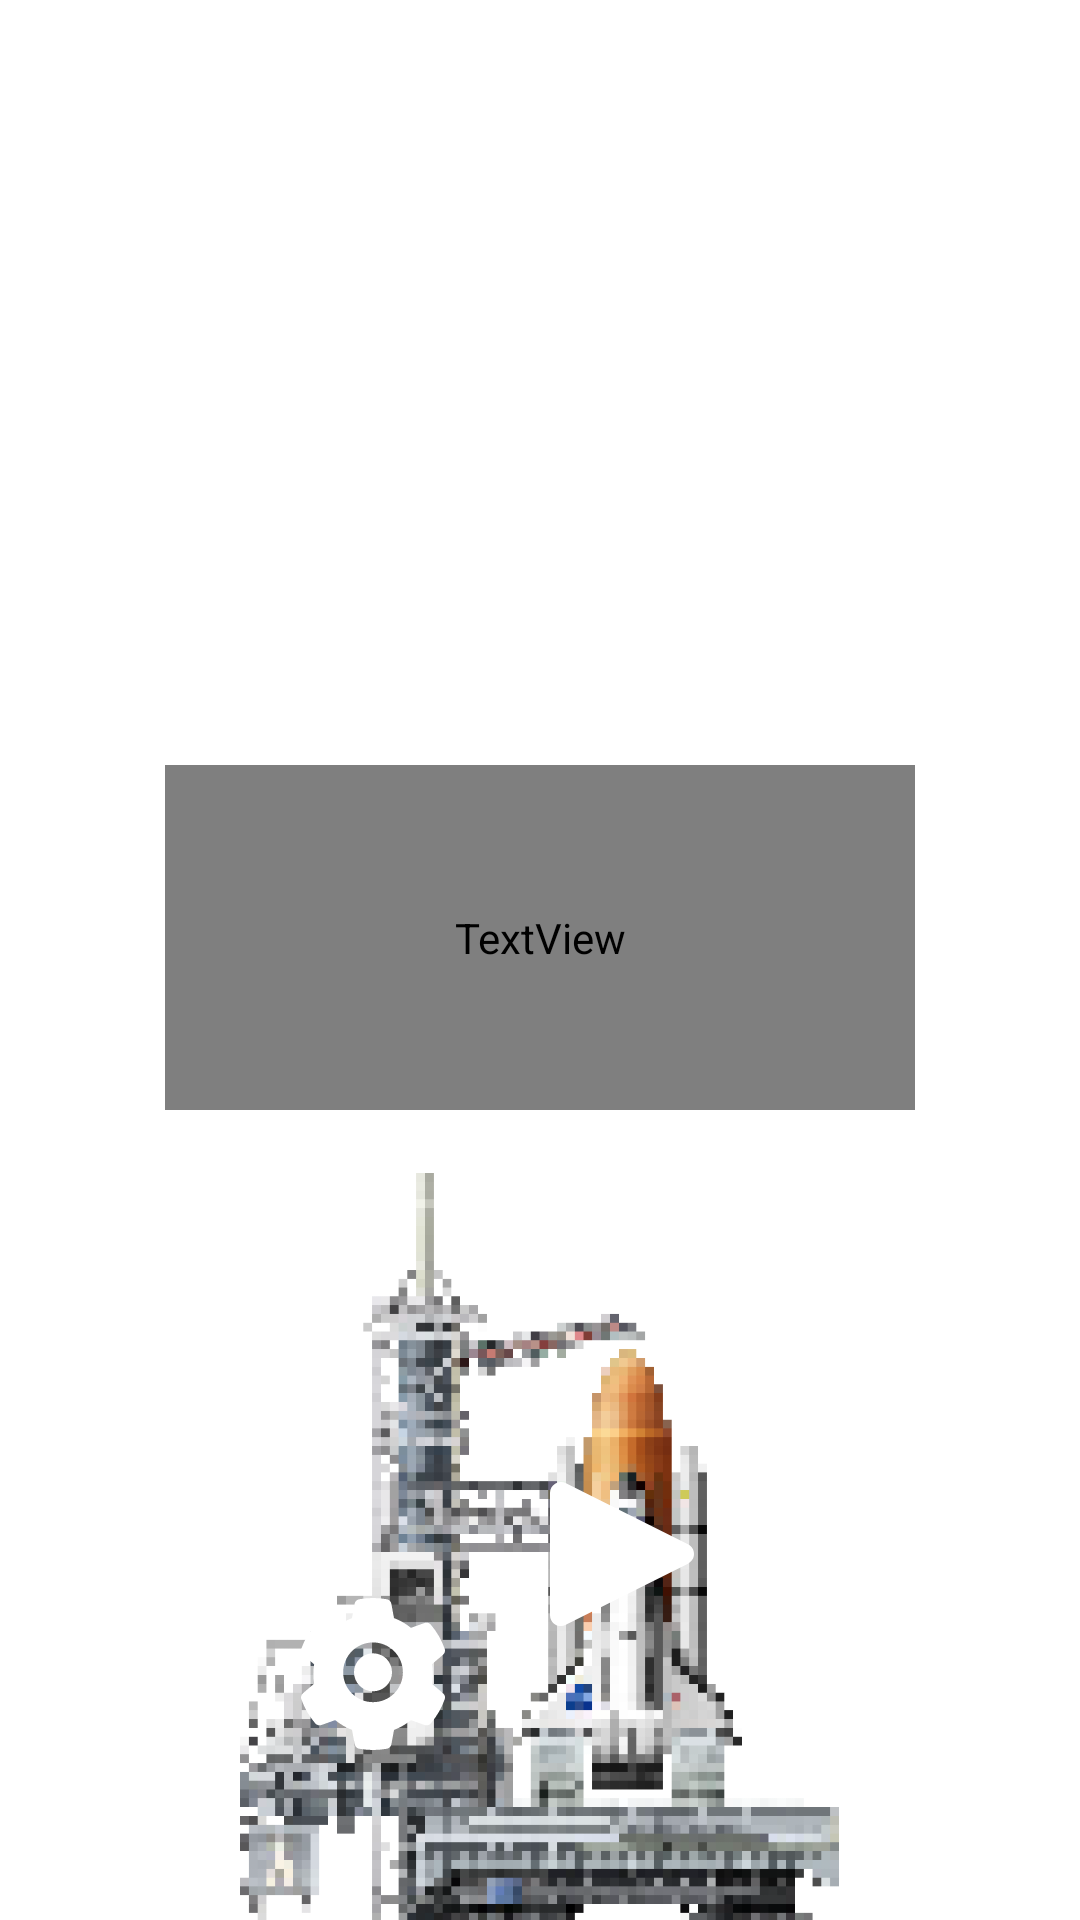

Icon click points for this 1080x1920 phone screenshot, format (x=x, y=y):
play: (x=622, y=1554)
setting: (x=373, y=1674)
